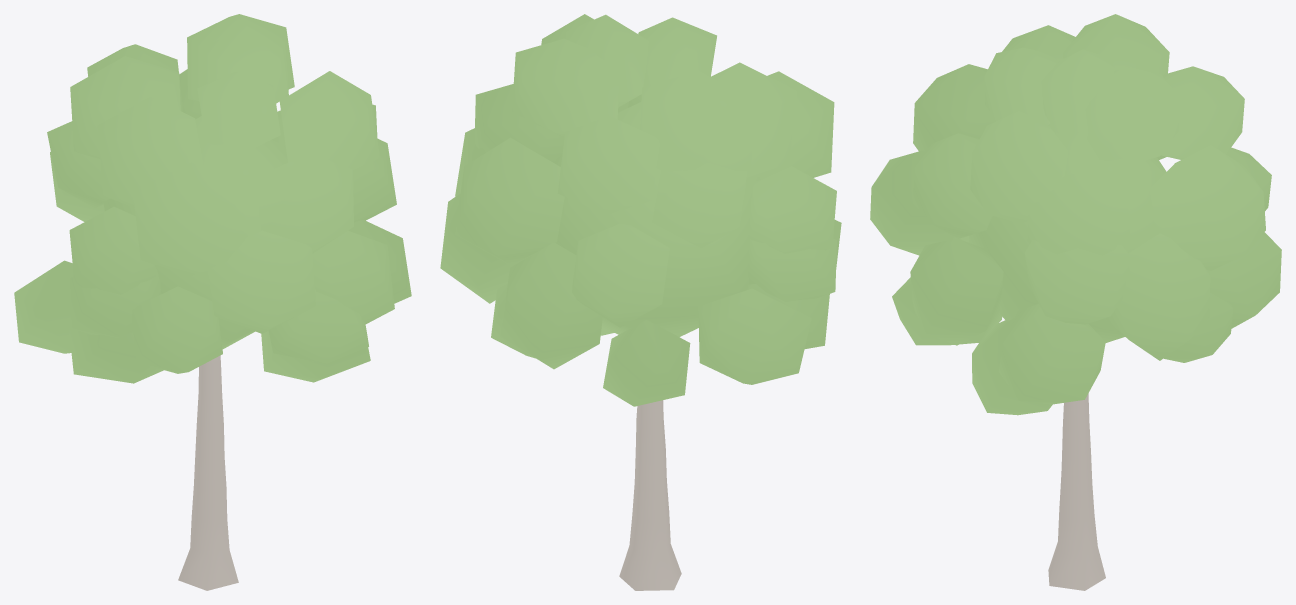
The model's file is Blender_LakeSugarMaple_2_Far.glb.
3 views of the same model, side by side, from view 1: azimuth 30°, elevation 25°; view 2: azimuth 150°, elevation 25°; view 3: azimuth 270°, elevation 25° (orthographic). The views are drawn at different scales.
Visible parts, largest first — view 1: Blender_LakeSugarMaple_2_Far; view 2: Blender_LakeSugarMaple_2_Far; view 3: Blender_LakeSugarMaple_2_Far.
Part boxes in pixels (x1=…): Blender_LakeSugarMaple_2_Far: x1=14, y1=14, x2=411, y2=590; Blender_LakeSugarMaple_2_Far: x1=440, y1=14, x2=841, y2=590; Blender_LakeSugarMaple_2_Far: x1=870, y1=14, x2=1281, y2=590.
Size of the model in its own units: 13.26 by 19.61 by 13.34.
